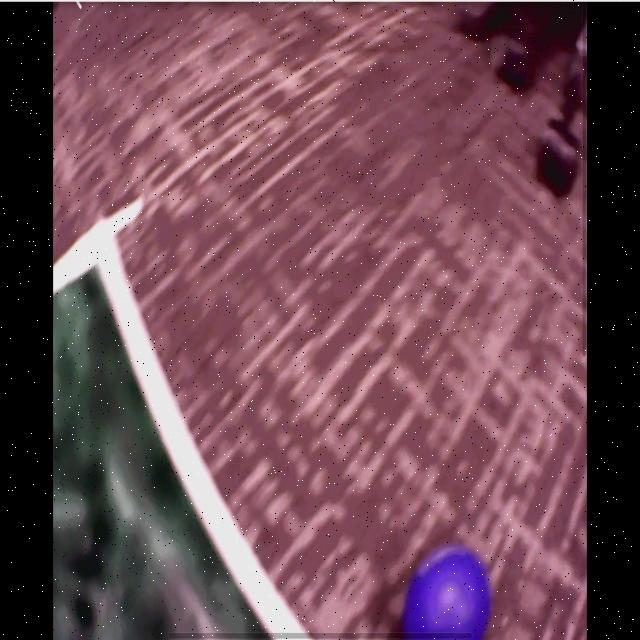ball: (404, 548, 490, 640)
